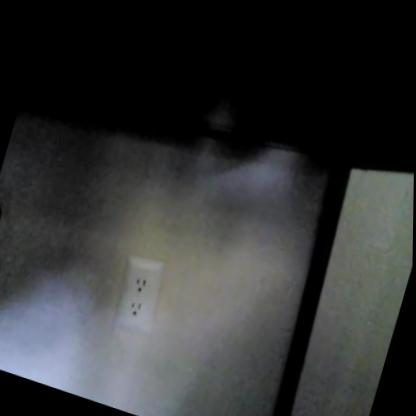OUTLET: (110, 248, 171, 339)
